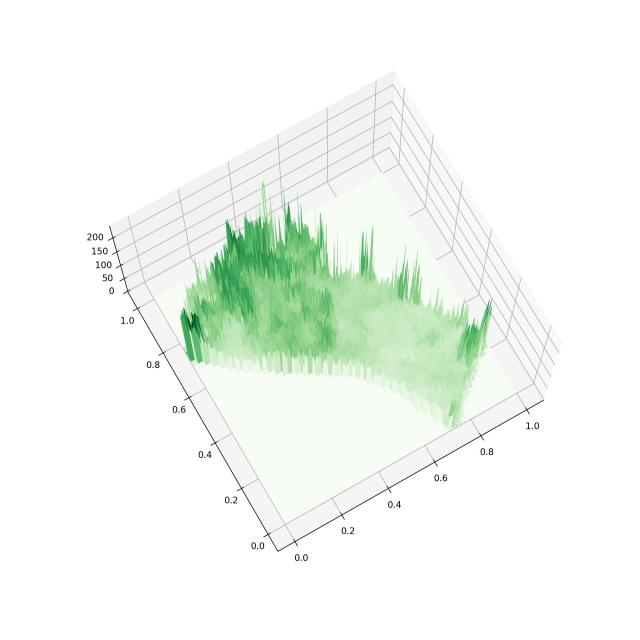fir: (71, 32, 584, 590)
